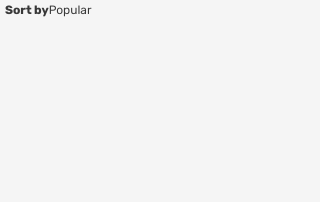
Test: SortOptions › opens the options and reports the selected sort type
Click the button "Popular".
click(76, 10)  # box [49,3,103,17]
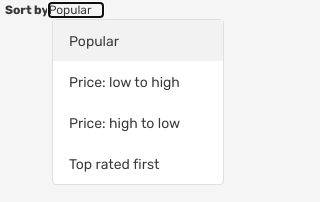
Click the option "Price: low to high".
click(124, 83)  # box [69,76,180,90]
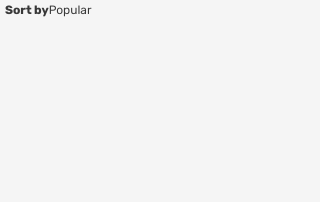
Expected: the button "Popular" is collapsed, [49,3,103,17]
